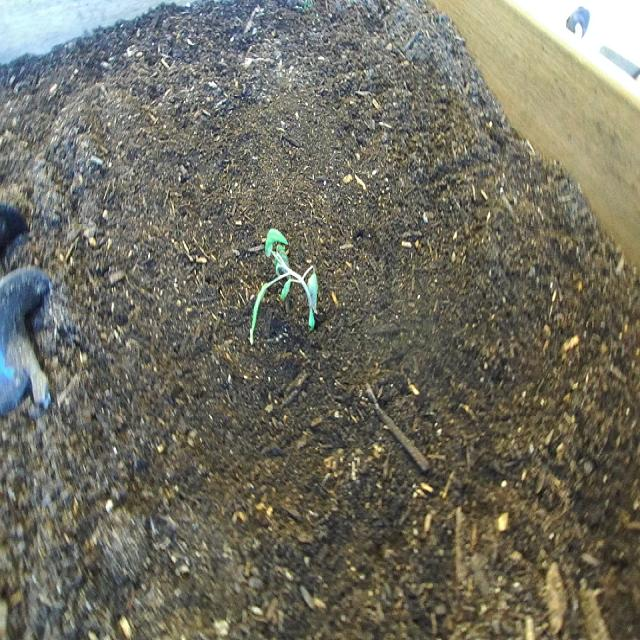Unhealthy: (251, 225, 321, 346)
